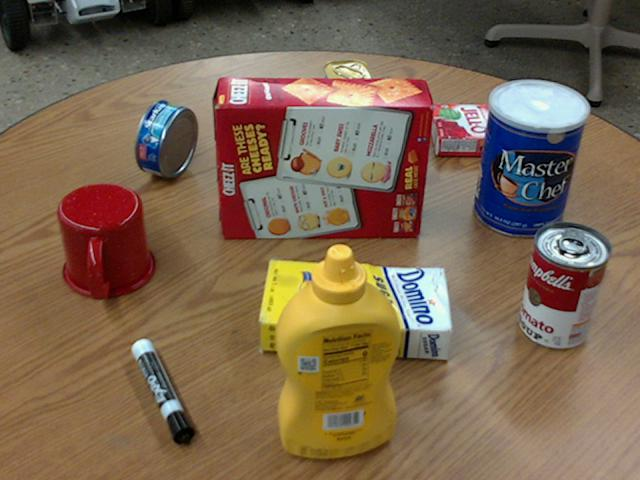cracker_box: (214, 77, 430, 238)
gelatin_box: (431, 102, 497, 154)
large_marker: (131, 339, 192, 442)
master_chef_can: (474, 79, 587, 236)
mug: (58, 183, 156, 297)
mustard_bottle: (274, 244, 398, 457)
potted_meat_can: (324, 59, 381, 156)
sugar_box: (258, 259, 451, 360)
tomato_soup_can: (519, 222, 610, 349)
tuna_fish_can: (135, 101, 196, 178)
